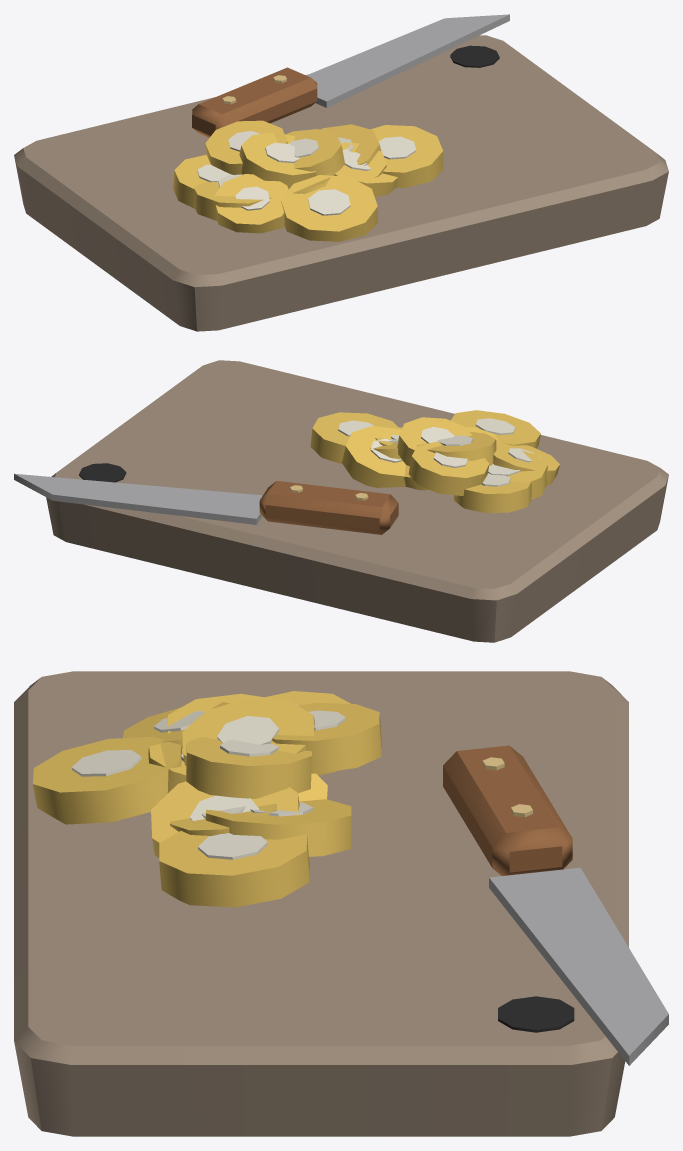
File: cook_chopped_carrot.glb
3 views of the same model, one above another, from view 1: azimuth 30°, elevation 25°; view 2: azimuth 150°, elevation 25°; view 3: azimuth 270°, elevation 25° (orthographic). The views are drawn at different scales.
Visible parts, largest first — view 1: body; view 2: body; view 3: body.
Boxes of the visible parts, left/top/right/bottom form: body: left=14, top=14, right=668, bottom=331; body: left=14, top=360, right=668, bottom=642; body: left=14, top=671, right=668, bottom=1136.
Size of the model in its own units: 0.0663 by 0.0125 by 0.0458.
